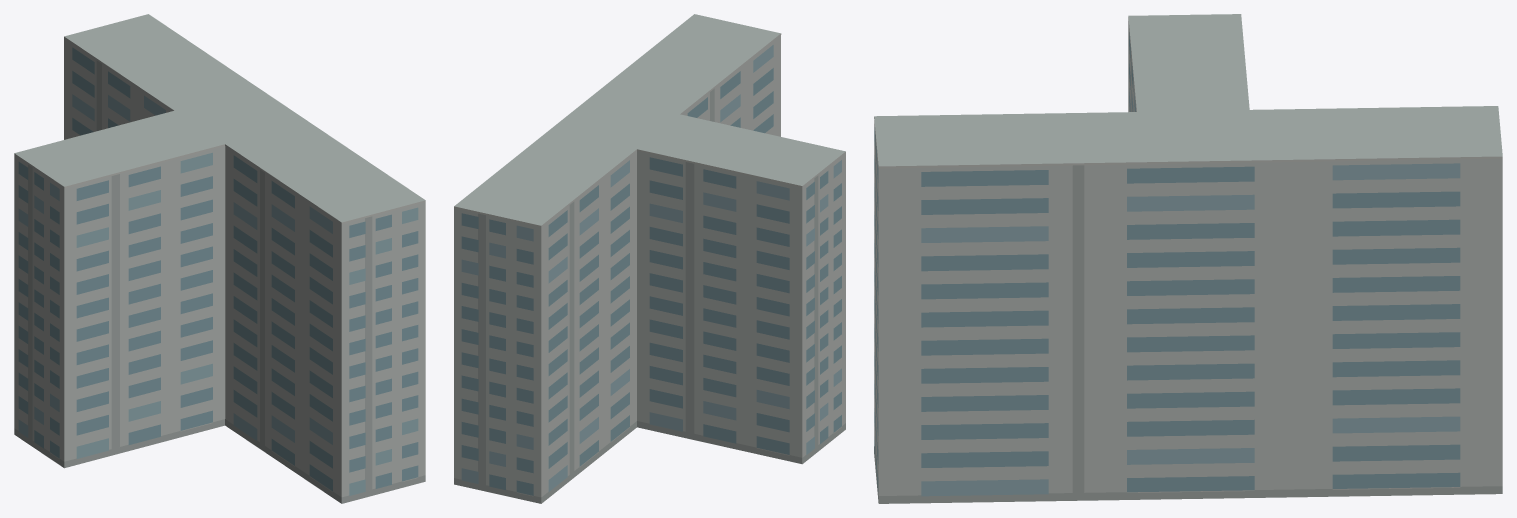
File: residential-f57f1068-34a8-4ec5-bf09-ccbcc098af49.glb
3 views of the same model, side by side, from view 1: azimuth 30°, elevation 25°; view 2: azimuth 150°, elevation 25°; view 3: azimuth 270°, elevation 25° (orthographic). The views are drawn at different scales.
Parts seen in each view (by area): view 1: residential-f57f1068-34a8-4ec5-bf09-ccbcc098af49.tmp; view 2: residential-f57f1068-34a8-4ec5-bf09-ccbcc098af49.tmp; view 3: residential-f57f1068-34a8-4ec5-bf09-ccbcc098af49.tmp.
Boxes of the visible parts, x1,y1,x2,y2 form: residential-f57f1068-34a8-4ec5-bf09-ccbcc098af49.tmp: (14, 14, 425, 503); residential-f57f1068-34a8-4ec5-bf09-ccbcc098af49.tmp: (454, 14, 845, 503); residential-f57f1068-34a8-4ec5-bf09-ccbcc098af49.tmp: (874, 14, 1502, 503).
Bounding box in the file's own units: 36.81 × 38 × 64.15.
